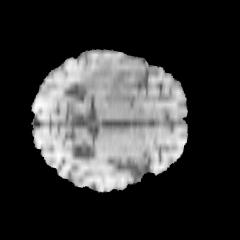glioma: (78, 56, 145, 105)
